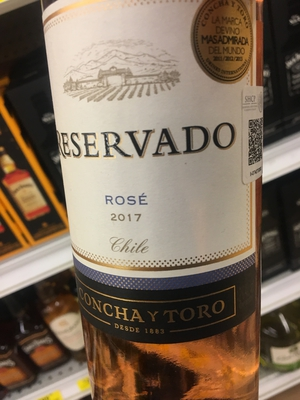reservado rose: (35, 1, 276, 400)
